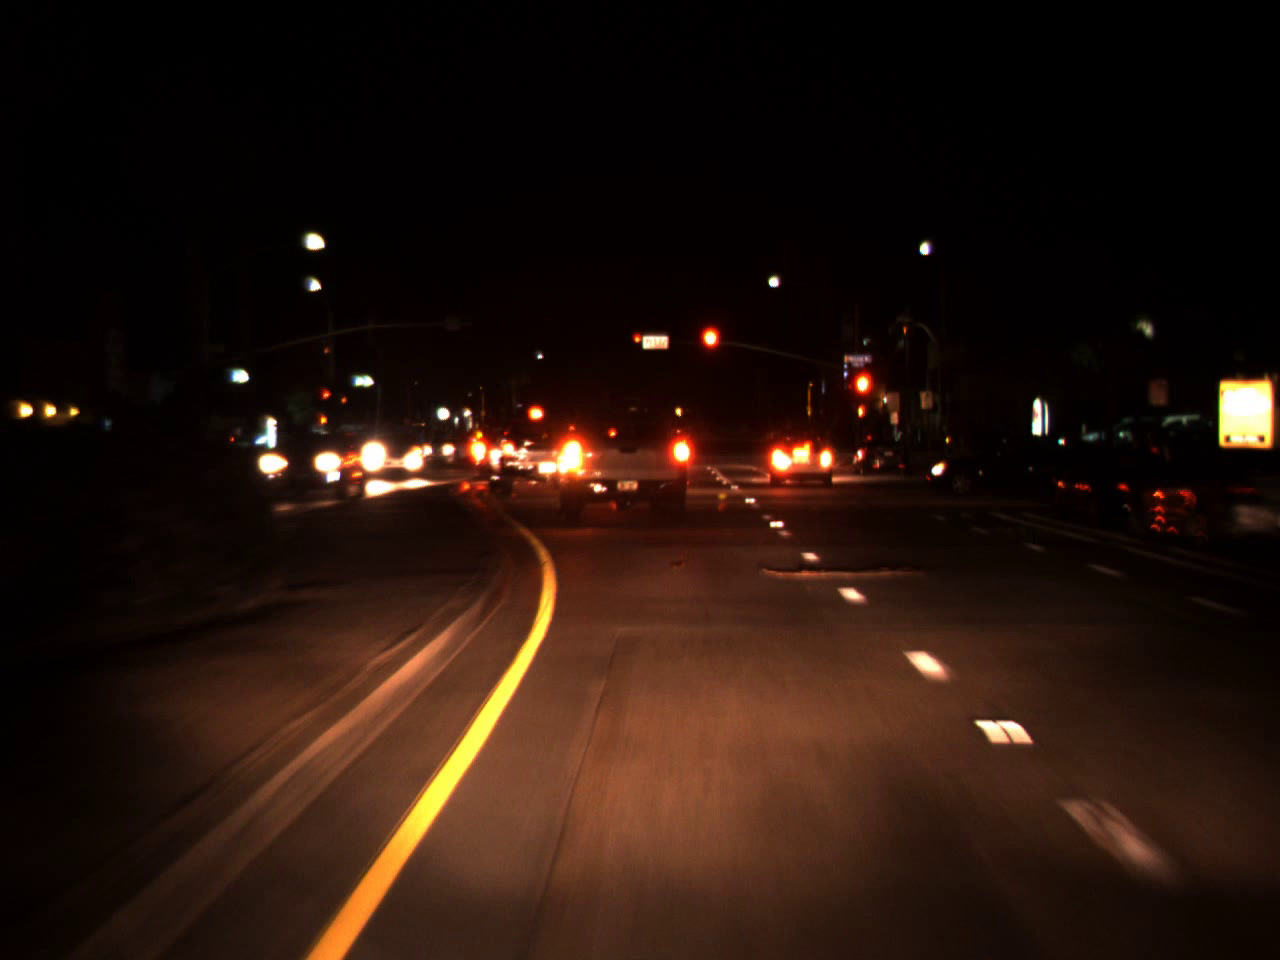stop: (849, 366, 876, 425), (697, 323, 722, 377), (632, 332, 644, 350), (321, 389, 331, 407)
